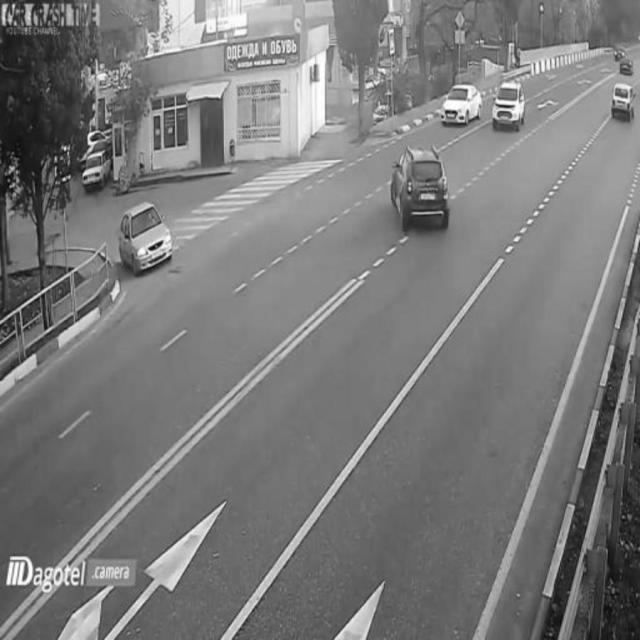vehicle: (386, 144, 450, 230), (119, 200, 173, 267), (436, 84, 481, 126), (493, 82, 523, 136), (82, 151, 112, 197), (608, 77, 636, 125)
